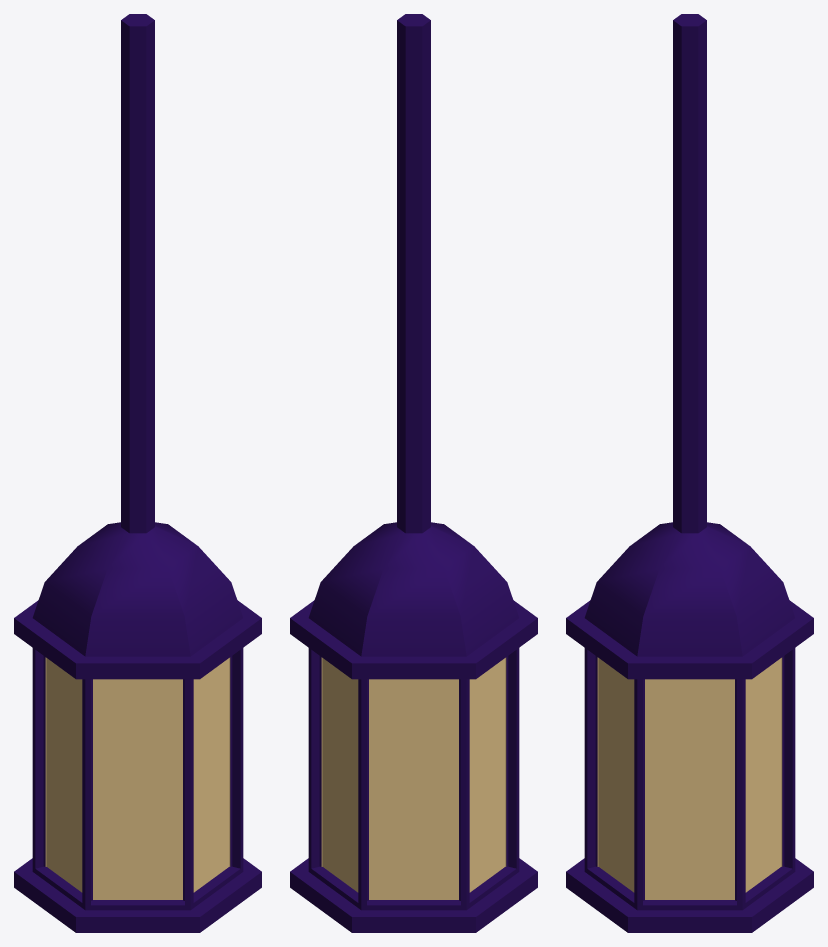
Rendered from ceiling_lamp.fbx.
The picture shows the model from 3 angles, left to right: view 1: azimuth 30°, elevation 25°; view 2: azimuth 150°, elevation 25°; view 3: azimuth 270°, elevation 25°; orthographic projection.
Visible parts, largest first — view 1: Cylinder.012; view 2: Cylinder.012; view 3: Cylinder.012.
Part boxes in pixels (x1,y1,x2,y2): Cylinder.012: (14, 14, 261, 932); Cylinder.012: (290, 14, 537, 932); Cylinder.012: (566, 14, 813, 932).
Bounding box in the file's own units: 46.98 × 181 × 40.69.
